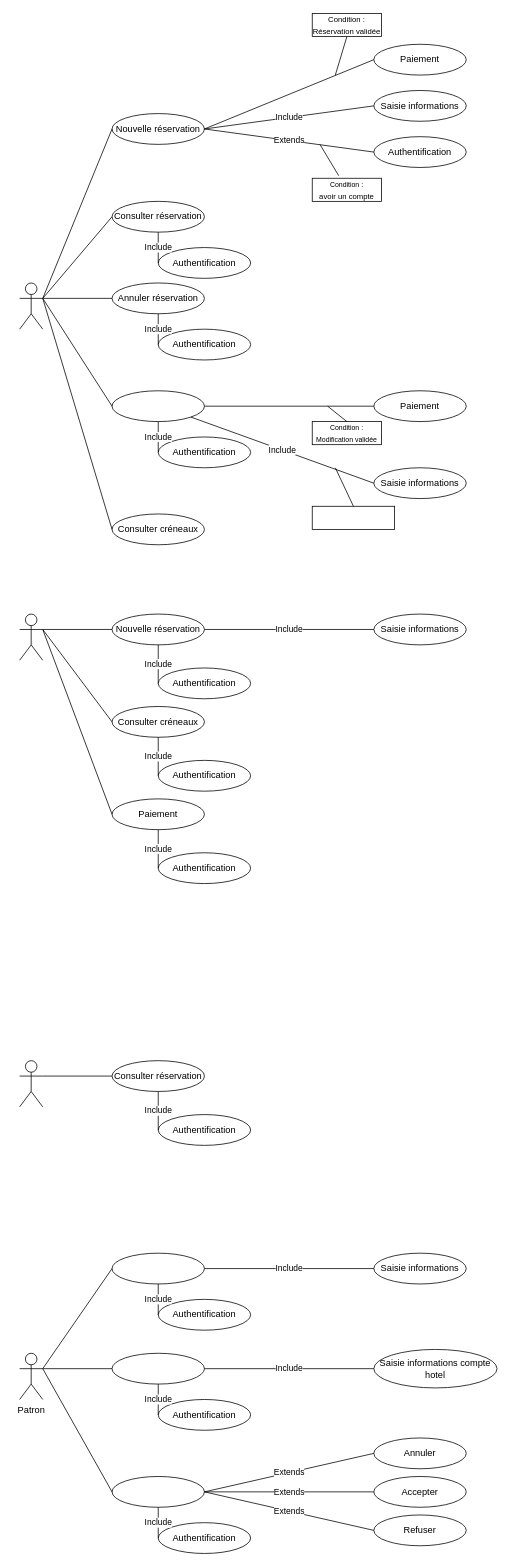
The diagram is 511 pixels wide and 1567 high, and some of its shapes have lost their labels. Here are the shapes that lost their labels. From the top down, the box of each, then its label:
(19, 282, 43, 329): Client
(111, 390, 204, 422): Modifier réservation
(311, 506, 395, 529): Condition : Réservation en attente
(19, 613, 43, 660): Hotel
(19, 1060, 43, 1107): Employé
(111, 1252, 204, 1284): Créer une réservation
(111, 1353, 204, 1384): Créer un compte
(111, 1476, 204, 1507): Consulter une réservation
